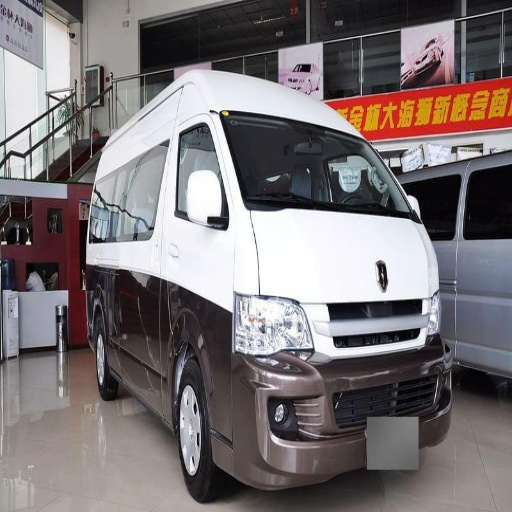front_bumper: (211, 303, 453, 488)
front_right_door: (161, 116, 235, 295)
front_right_light: (235, 295, 312, 356)
